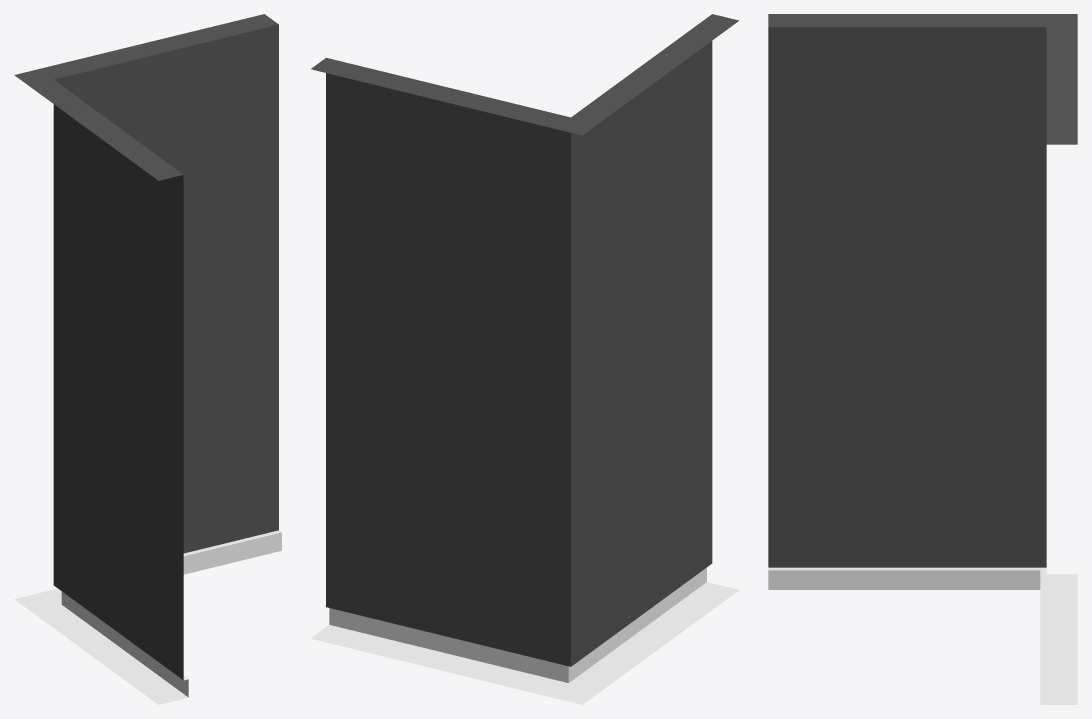
The model's file is Int-V2CornerGray.fbx.
The picture shows the model from 3 angles, left to right: view 1: azimuth 30°, elevation 25°; view 2: azimuth 150°, elevation 25°; view 3: azimuth 270°, elevation 25°; orthographic projection. The views are drawn at different scales.
Visible parts, largest first — view 1: Int-V2CornerGray; view 2: Int-V2CornerGray; view 3: Int-V2CornerGray.
Part boxes in pixels (x1,y1,x2,y2): Int-V2CornerGray: (14,14,281,704); Int-V2CornerGray: (311,14,738,704); Int-V2CornerGray: (768,14,1077,704).
Size of the model in its own units: 100 by 200 by 100.
